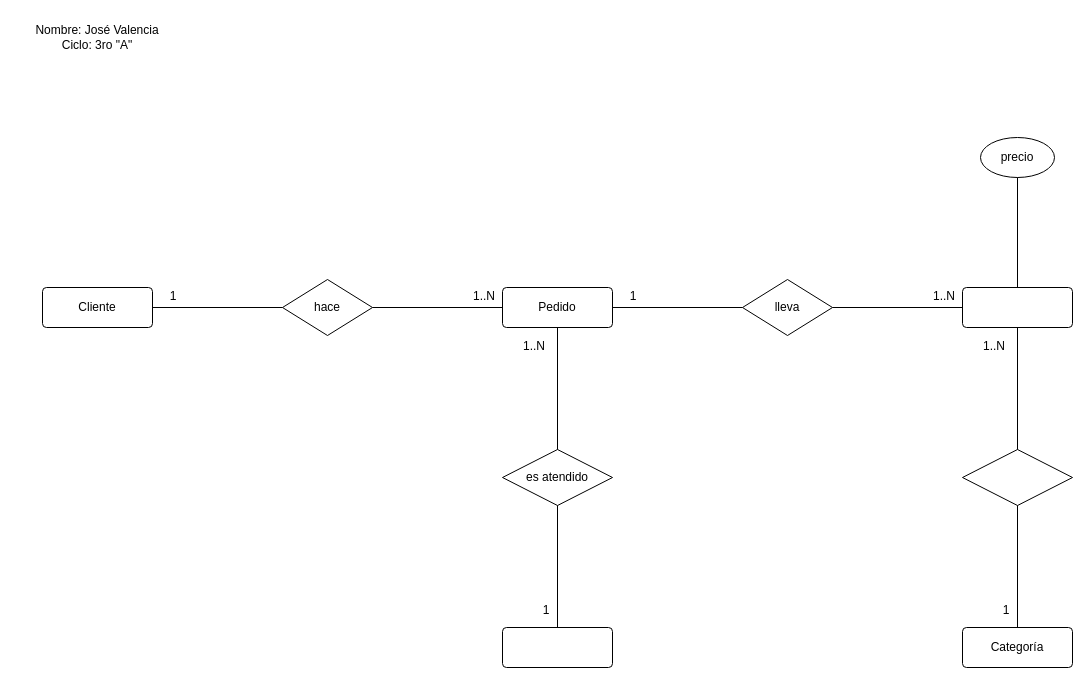
This 1090x685 diagram has some shape labels left out. The shapes that lost their labels are listed below. From the top down, each one's centre as x and y in pixels, then its label:
the point at 1017,307: Plato
the point at 1017,477: puede estar
the point at 557,647: Mesero
